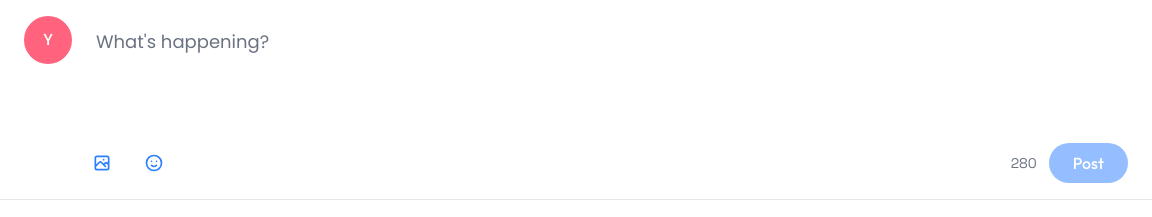
ComposePost Component › disables Post button when textarea is empty
The width and height of the screenshot is (1152, 217).
Expected: the button "Post" is disabled, [1049,143,1128,183]
Type some text
Step 1. Type "Hello world!" into the text box with placeholder "What's happening?" → (606, 70), box [84,16,1128,124]
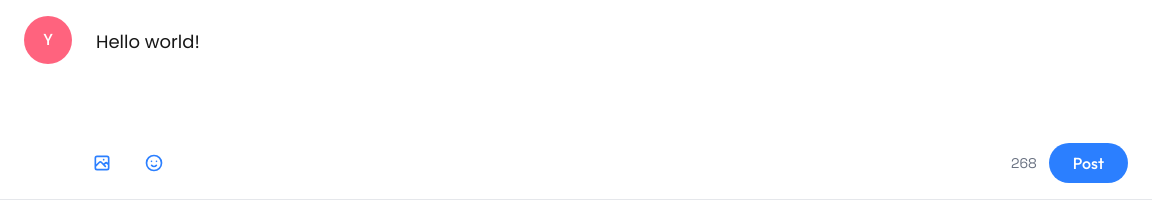
Now the button "Post" is enabled, box [1049,143,1128,183]
Clear the textarea
Step 2. Clear the text box with placeholder "What's happening?" → (606, 70), box [84,16,1128,124]
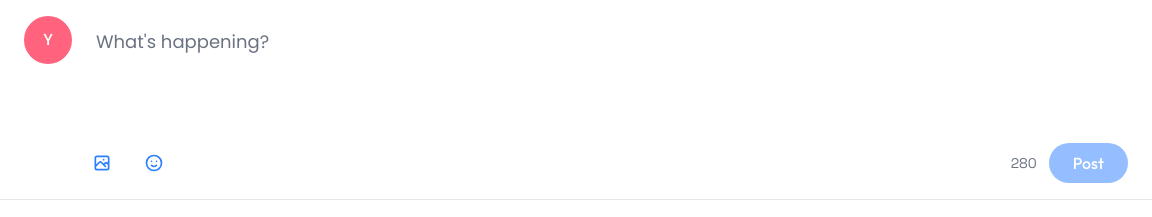
Now the button "Post" is disabled, box [1049,143,1128,183]
